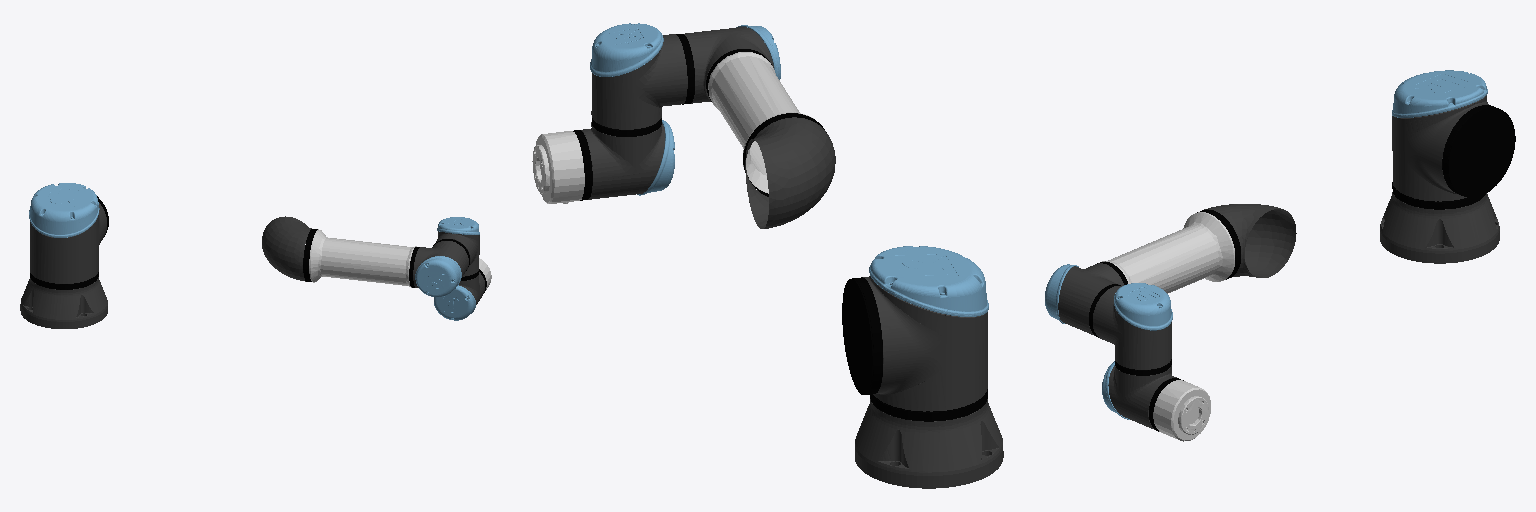
robot.urdf — ur16e-test:
<?xml version="1.0" ?>
<robot name="ur16e-test">
  <!--

    NOTE the default kinematic parameters (i.e., link lengths, frame locations,
    offsets, etc) do not correspond to any particular robot. They are defaults
    only. There WILL be non-zero offsets between the Forward Kinematics results
    in TF (i.e., robot_state_publisher) and the values reported by the Teach
    Pendant.

    For accurate (and robot-specific) transforms, the 'kinematics_parameters_file'
    parameter MUST point to a .yaml file containing the appropriate values for
    the targeted robot.

    If using the UniversalRobots/Universal_Robots_ROS_Driver, follow the steps
    described in the readme of that repository to extract the kinematic
    calibration from the controller and generate the required .yaml file.

  -->
  <!-- create link fixed to the "world" -->
  <link name="world"/>
  <!-- links -  main serial chain -->
  <!-- base_link serves as the root of the robot's kinematic tree. It follows REP-103
        conventions (i.e., X+ forward, Y+ left, Z+ up).
        Since some kinematic solvers forbid having inertia values attached to a root link, we've
        added the base_link_inertia link that carries the visual, collision and inertia
        information.
    -->
  <link name="base_link"/>
  <link name="base_link_inertia">
    <visual>
      <origin rpy="0.0 0.0 3.141592653589793" xyz="0.0 0.0 0.0"/>
      <geometry>
        <mesh filename="../meshes/ur10e/visual/base.dae"/>
      </geometry>
    </visual>
    <collision>
      <origin rpy="0.0 0.0 3.141592653589793" xyz="0.0 0.0 0.0"/>
      <geometry>
        <mesh filename="../meshes/ur10e/collision/base.stl"/>
      </geometry>
    </collision>
    <inertial>
      <mass value="4.0"/>
      <origin rpy="0 0 0" xyz="0 0 0"/>
      <inertia ixx="0.0061063308908" ixy="0.0" ixz="0.0" iyy="0.0061063308908" iyz="0.0" izz="0.01125"/>
    </inertial>
  </link>
  <link name="shoulder_link">
    <visual>
      <origin rpy="0.0 0.0 3.141592653589793" xyz="0.0 0.0 0.0"/>
      <geometry>
        <mesh filename="../meshes/ur10e/visual/shoulder.dae"/>
      </geometry>
    </visual>
    <collision>
      <origin rpy="0.0 0.0 3.141592653589793" xyz="0.0 0.0 0.0"/>
      <geometry>
        <mesh filename="../meshes/ur10e/collision/shoulder.stl"/>
      </geometry>
    </collision>
    <inertial>
      <mass value="7.369"/>
      <origin rpy="1.570796326794897 0 0" xyz="0.0 -0.03 -0.016"/>
      <inertia ixx="0.03351" ixy="2e-05" ixz="-1e-05" iyy="0.03374" iyz="0.00374" izz="0.021"/>
    </inertial>
  </link>
  <link name="upper_arm_link">
    <visual>
      <origin rpy="1.5707963267948966 0.0 -1.5707963267948966" xyz="0.0 0.0 0.1762"/>
      <geometry>
        <mesh filename="../meshes/ur16e/visual/upperarm.dae"/>
      </geometry>
    </visual>
    <collision>
      <origin rpy="1.5707963267948966 0.0 -1.5707963267948966" xyz="0.0 0.0 0.1762"/>
      <geometry>
        <mesh filename="../meshes/ur16e/collision/upperarm.stl"/>
      </geometry>
    </collision>
    <inertial>
      <mass value="10.45"/>
      <origin rpy="0 0 0" xyz="-0.1764 0.0 0.16"/>
      <inertia ixx="0.02796" ixy="-0.0001" ixz="-0.0072" iyy="0.47558" iyz="3e-05" izz="0.47635"/>
    </inertial>
  </link>
  <link name="forearm_link">
    <visual>
      <origin rpy="1.5707963267948966 0.0 -1.5707963267948966" xyz="0.0 0.0 0.0393"/>
      <geometry>
        <mesh filename="../meshes/ur16e/visual/forearm.dae"/>
      </geometry>
    </visual>
    <collision>
      <origin rpy="1.5707963267948966 0.0 -1.5707963267948966" xyz="0.0 0.0 0.0393"/>
      <geometry>
        <mesh filename="../meshes/ur16e/collision/forearm.stl"/>
      </geometry>
    </collision>
    <inertial>
      <mass value="4.321"/>
      <origin rpy="0 0 0" xyz="-0.166 0.0 0.065"/>
      <inertia ixx="0.01091" ixy="6e-05" ixz="0.01012" iyy="0.1206" iyz="1e-05" izz="0.11714"/>
    </inertial>
  </link>
  <link name="wrist_1_link">
    <visual>
      <origin rpy="1.5707963267948966 0.0 0.0" xyz="0.0 0.0 -0.135"/>
      <geometry>
        <mesh filename="../meshes/ur10e/visual/wrist1.dae"/>
      </geometry>
    </visual>
    <collision>
      <origin rpy="1.5707963267948966 0.0 0.0" xyz="0.0 0.0 -0.135"/>
      <geometry>
        <mesh filename="../meshes/ur10e/collision/wrist1.stl"/>
      </geometry>
    </collision>
    <inertial>
      <mass value="2.18"/>
      <origin rpy="1.570796326794897 0 0" xyz="0.0 -0.011 -0.009"/>
      <inertia ixx="0.00609" ixy="-1e-05" ixz="0.0" iyy="0.00245" iyz="0.00083" izz="0.00579"/>
    </inertial>
  </link>
  <link name="wrist_2_link">
    <visual>
      <origin rpy="0.0 0.0 0.0" xyz="0.0 0.0 -0.12"/>
      <geometry>
        <mesh filename="../meshes/ur10e/visual/wrist2.dae"/>
      </geometry>
    </visual>
    <collision>
      <origin rpy="0.0 0.0 0.0" xyz="0.0 0.0 -0.12"/>
      <geometry>
        <mesh filename="../meshes/ur10e/collision/wrist2.stl"/>
      </geometry>
    </collision>
    <inertial>
      <mass value="2.033"/>
      <origin rpy="-1.570796326794897 0 0" xyz="0.0 0.012 -0.018"/>
      <inertia ixx="0.00389" ixy="-1e-05" ixz="0.0" iyy="0.00219" iyz="-0.00045" izz="0.00363"/>
    </inertial>
  </link>
  <link name="wrist_3_link">
    <visual>
      <origin rpy="1.5707963267948966 0.0 0.0" xyz="0.0 0.0 -0.1168"/>
      <geometry>
        <mesh filename="../meshes/ur10e/visual/wrist3.dae"/>
      </geometry>
    </visual>
    <collision>
      <origin rpy="1.5707963267948966 0.0 0.0" xyz="0.0 0.0 -0.1168"/>
      <geometry>
        <mesh filename="../meshes/ur10e/collision/wrist3.stl"/>
      </geometry>
    </collision>
    <inertial>
      <mass value="0.907"/>
      <origin rpy="0 0 0" xyz="0.0 0.0 -0.044"/>
      <inertia ixx="0.00117" ixy="0.0" ixz="0.0" iyy="0.00118" iyz="0.0" izz="0.00084"/>
    </inertial>
  </link>
  <!-- base_joint fixes base_link to the environment -->
  <joint name="base_joint" type="fixed">
    <origin rpy="0 0 0" xyz="0 0 0"/>
    <parent link="world"/>
    <child link="base_link"/>
  </joint>
  <!-- joints - main serial chain -->
  <joint name="base_link-base_link_inertia" type="fixed">
    <parent link="base_link"/>
    <child link="base_link_inertia"/>
    <!-- 'base_link' is REP-103 aligned (so X+ forward), while the internal
           frames of the robot/controller have X+ pointing backwards.
           Use the joint between 'base_link' and 'base_link_inertia' (a dummy
           link/frame) to introduce the necessary rotation over Z (of pi rad).
      -->
    <origin rpy="0 0 2.35619" xyz="0 0 0"/>
  </joint>
  <joint name="shoulder_pan_joint" type="revolute">
    <parent link="base_link_inertia"/>
    <child link="shoulder_link"/>
    <origin rpy="0 0 0" xyz="0 0 0.1807"/>
    <axis xyz="0 0 1"/>
    <limit effort="330.0" lower="-6.283185307179586" upper="6.283185307179586" velocity="2.0943951023931953"/>
    <dynamics damping="0" friction="0"/>
  </joint>
  <joint name="shoulder_lift_joint" type="revolute">
    <parent link="shoulder_link"/>
    <child link="upper_arm_link"/>
    <origin rpy="1.570796327 0 0" xyz="0 0 0"/>
    <axis xyz="0 0 1"/>
    <limit effort="330.0" lower="-6.283185307179586" upper="6.283185307179586" velocity="2.0943951023931953"/>
    <dynamics damping="0" friction="0"/>
  </joint>
  <joint name="elbow_joint" type="revolute">
    <parent link="upper_arm_link"/>
    <child link="forearm_link"/>
    <origin rpy="0 0 0" xyz="-0.4784 0 0"/>
    <axis xyz="0 0 1"/>
    <limit effort="150.0" lower="-3.141592653589793" upper="3.141592653589793" velocity="3.141592653589793"/>
    <dynamics damping="0" friction="0"/>
  </joint>
  <joint name="wrist_1_joint" type="revolute">
    <parent link="forearm_link"/>
    <child link="wrist_1_link"/>
    <origin rpy="0 0 0" xyz="-0.36 0 0.17415"/>
    <axis xyz="0 0 1"/>
    <limit effort="54.0" lower="-6.283185307179586" upper="6.283185307179586" velocity="3.141592653589793"/>
    <dynamics damping="0" friction="0"/>
  </joint>
  <joint name="wrist_2_joint" type="revolute">
    <parent link="wrist_1_link"/>
    <child link="wrist_2_link"/>
    <origin rpy="1.570796327 0 0" xyz="0 -0.11985 -2.458164590756244e-11"/>
    <axis xyz="0 0 1"/>
    <limit effort="54.0" lower="-6.283185307179586" upper="6.283185307179586" velocity="3.141592653589793"/>
    <dynamics damping="0" friction="0"/>
  </joint>
  <joint name="wrist_3_joint" type="revolute">
    <parent link="wrist_2_link"/>
    <child link="wrist_3_link"/>
    <origin rpy="1.570796326589793 3.141592653589793 3.141592653589793" xyz="0 0.11655 -2.390480459346185e-11"/>
    <axis xyz="0 0 1"/>
    <limit effort="54.0" lower="-6.283185307179586" upper="6.283185307179586" velocity="3.141592653589793"/>
    <dynamics damping="0" friction="0"/>
  </joint>
  <link name="ft_frame"/>
  <joint name="wrist_3_link-ft_frame" type="fixed">
    <parent link="wrist_3_link"/>
    <child link="ft_frame"/>
    <origin rpy="3.141592653589793 0 0" xyz="0 0 0"/>
  </joint>
  <!-- ROS-Industrial 'base' frame - base_link to UR 'Base' Coordinates transform -->
  <link name="base"/>
  <joint name="base_link-base_fixed_joint" type="fixed">
    <!-- Note the rotation over Z of pi radians - as base_link is REP-103
           aligned (i.e., has X+ forward, Y+ left and Z+ up), this is needed
           to correctly align 'base' with the 'Base' coordinate system of
           the UR controller.
      -->
    <origin rpy="0 0 3.141592653589793" xyz="0 0 0"/>
    <parent link="base_link"/>
    <child link="base"/>
  </joint>
  <!-- ROS-Industrial 'flange' frame - attachment point for EEF models -->
  <link name="flange"/>
  <joint name="wrist_3-flange" type="fixed">
    <parent link="wrist_3_link"/>
    <child link="flange"/>
    <origin rpy="0 -1.5707963267948966 -1.5707963267948966" xyz="0 0 0"/>
  </joint>
  <!-- ROS-Industrial 'tool0' frame - all-zeros tool frame -->
  <link name="tool0"/>
  <joint name="flange-tool0" type="fixed">
    <!-- default toolframe - X+ left, Y+ up, Z+ front -->
    <origin rpy="1.5707963267948966 0 1.5707963267948966" xyz="0 0 0"/>
    <parent link="flange"/>
    <child link="tool0"/>
  </joint>
</robot>

--- Render facts (derived) ---
Views: 3 orthographic renders of the robot side by side, from view 1: azimuth 30°, elevation 25°; view 2: azimuth 150°, elevation 25°; view 3: azimuth 270°, elevation 25°.
Robot: ur16e-test — 13 links, 12 joints (6 revolute, 6 fixed); root link world; default pose: all joints at 0.
Visible links, largest first — view 1: forearm_link, shoulder_link, base_link_inertia, wrist_2_link, wrist_1_link; view 2: shoulder_link, forearm_link, base_link_inertia, wrist_1_link, wrist_2_link, wrist_3_link; view 3: forearm_link, shoulder_link, base_link_inertia, wrist_1_link, wrist_2_link, wrist_3_link.
Link boxes in pixels (x1=…): forearm_link: x1=262, y1=216, x2=469, y2=296; shoulder_link: x1=29, y1=183, x2=108, y2=283; base_link_inertia: x1=20, y1=272, x2=107, y2=328; wrist_2_link: x1=434, y1=269, x2=486, y2=320; wrist_1_link: x1=436, y1=217, x2=479, y2=280; shoulder_link: x1=842, y1=246, x2=988, y2=411; forearm_link: x1=676, y1=25, x2=835, y2=228; base_link_inertia: x1=855, y1=389, x2=1003, y2=488; wrist_1_link: x1=590, y1=23, x2=687, y2=136; wrist_2_link: x1=573, y1=120, x2=674, y2=200; wrist_3_link: x1=532, y1=131, x2=584, y2=203; forearm_link: x1=1045, y1=204, x2=1296, y2=337; shoulder_link: x1=1392, y1=70, x2=1515, y2=201; base_link_inertia: x1=1380, y1=182, x2=1499, y2=263; wrist_1_link: x1=1093, y1=283, x2=1172, y2=375; wrist_2_link: x1=1102, y1=361, x2=1183, y2=431; wrist_3_link: x1=1153, y1=380, x2=1210, y2=441.
Size in the robot's own frame: 0.9188 by 0.7458 by 0.2746 metres.
6 mesh visuals loaded from 7 distinct referenced files (6 Collada DAE); not drawn: 1 (file found but could not be loaded).